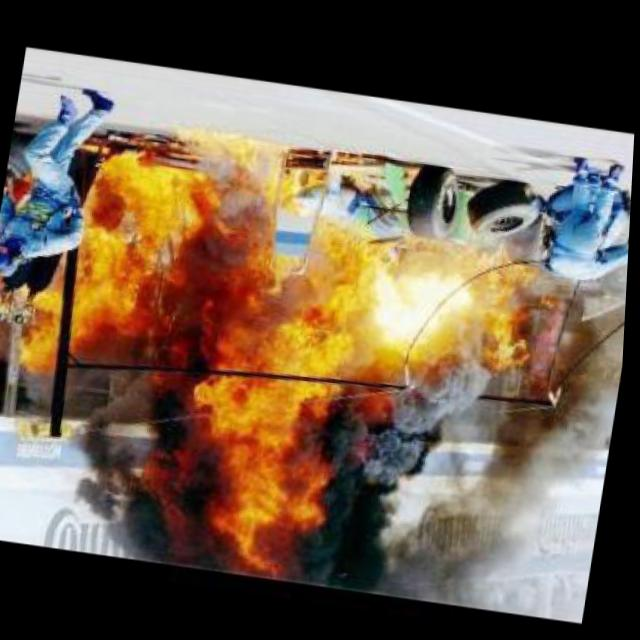Fire: (169, 194, 559, 593), (40, 230, 240, 567), (1, 115, 228, 405), (459, 293, 629, 586)
